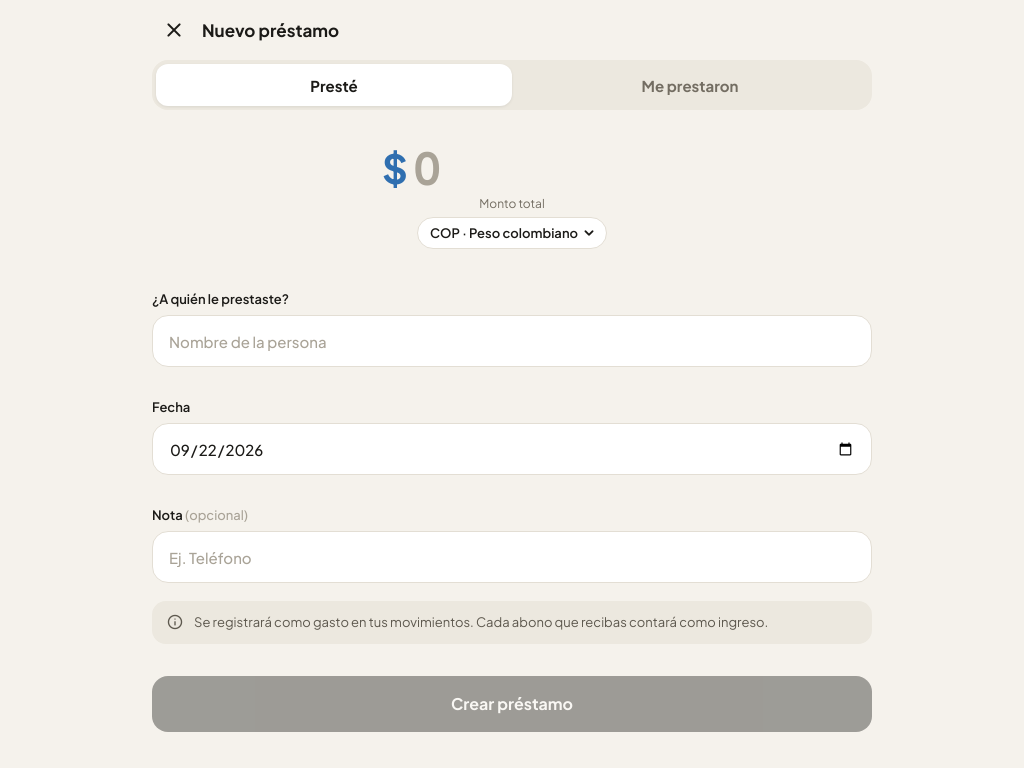
Nuevo préstamo › el aviso dice lo que pasa en el historico, y cambia con la direccion
Expected: the text "Se registrará como gasto" is shown, 194,614 -> 768,630
Click the tab "Me prestaron" at (690, 85), box 512,64 -> 868,106
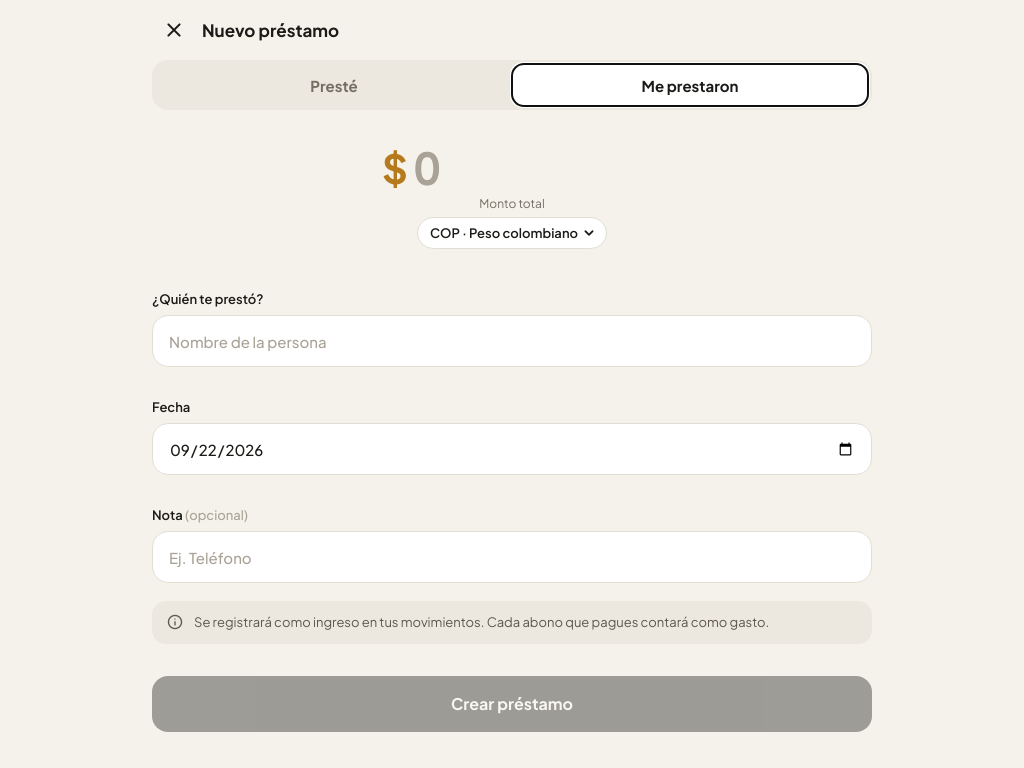
Result: the text "Se registrará como ingreso" is shown at 194,614 -> 769,630
Result: the text "¿Quién te prestó?" is shown at 152,291 -> 264,307
